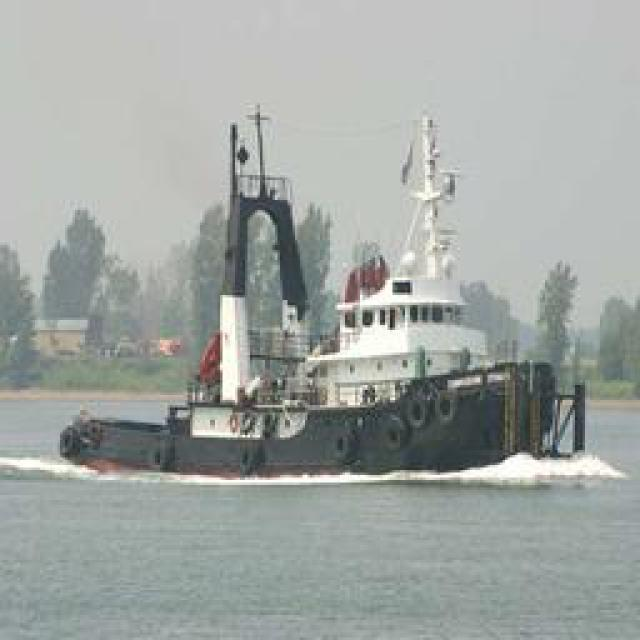Ship: (89, 94, 559, 479)
